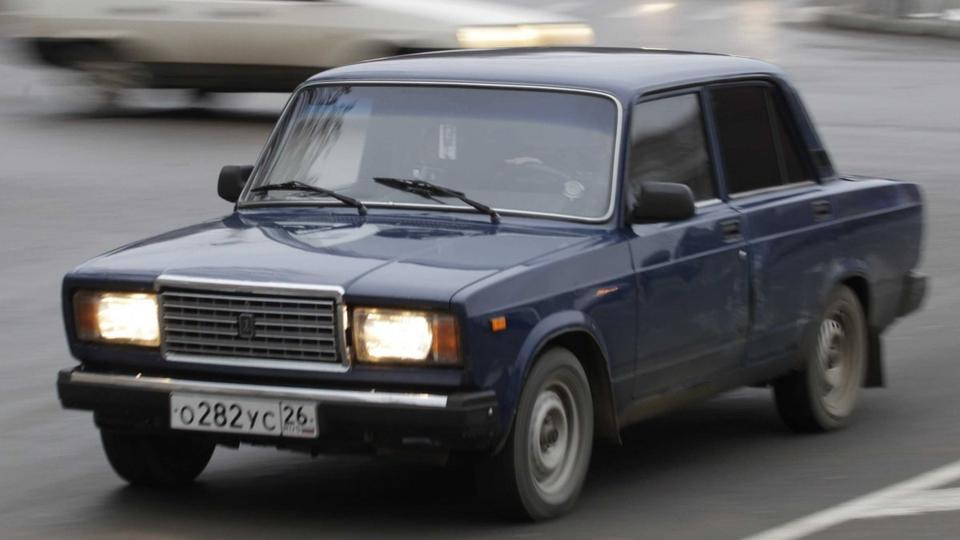car: (55, 42, 933, 523)
plate: (165, 388, 327, 447)
